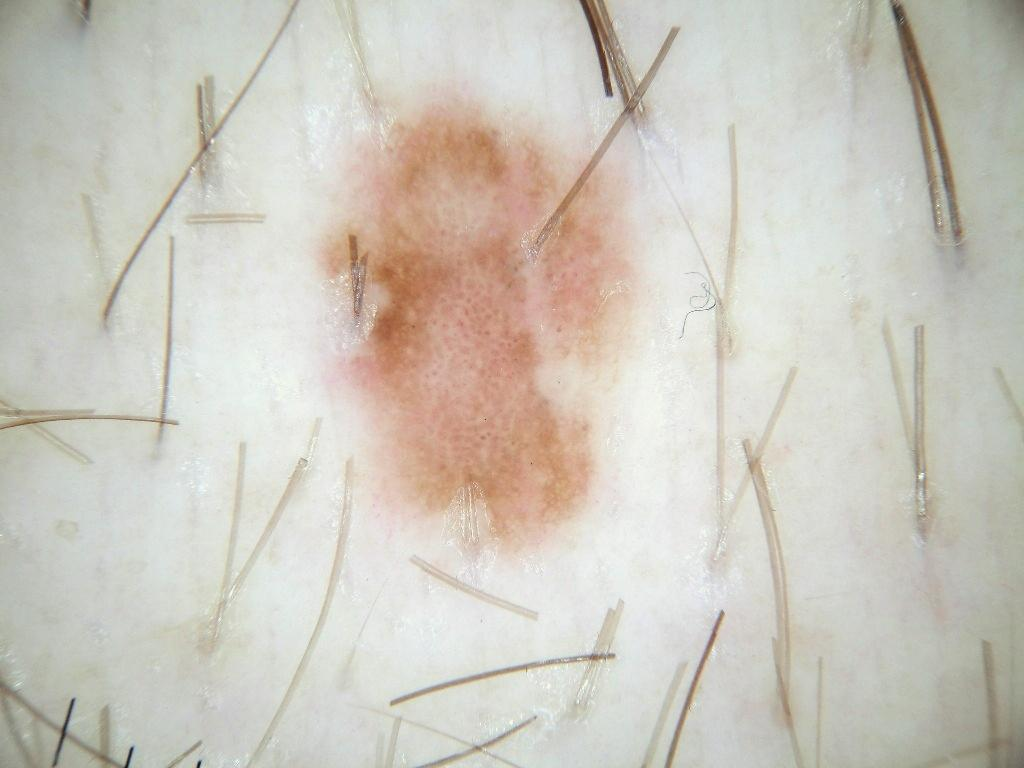Detected Lesion: (318, 93, 644, 540)
